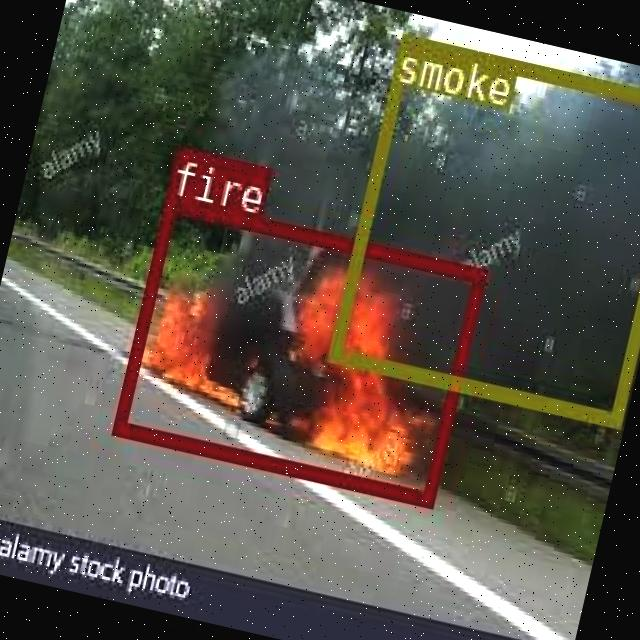fire: (110, 194, 484, 505)
smoke: (325, 32, 640, 426)
